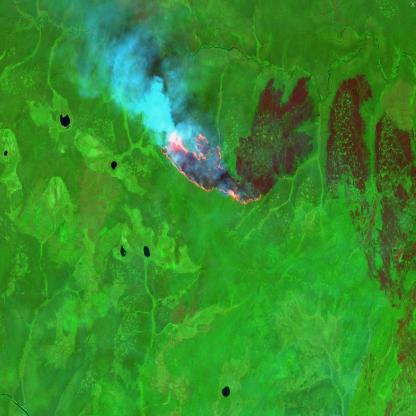fire: (158, 128, 264, 211)
